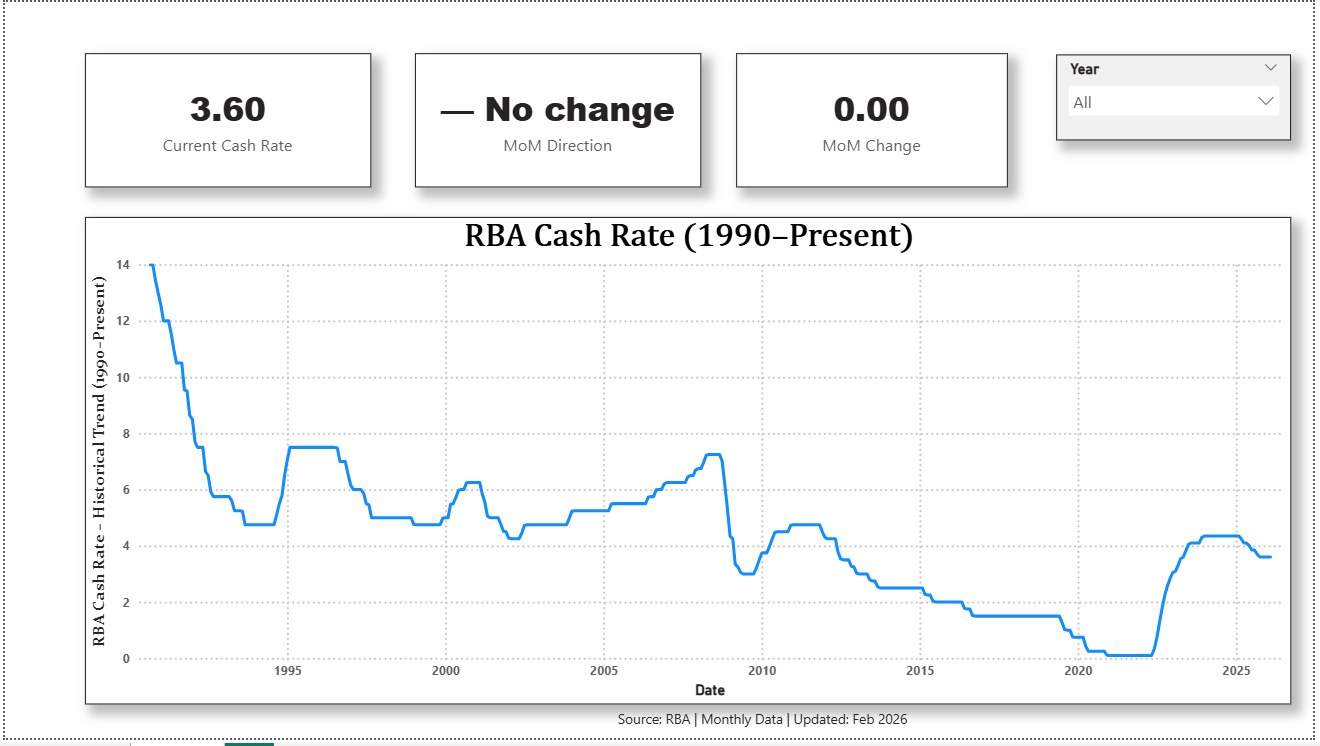

The page's visual inventory and layout, read from the dashboard file:
{"tool":"powerbi","page":{"name":"Page 1","canvas":[1280,720],"ordinal":0},"visuals":[{"type":"card","fields":{"Values":["Data.Current Cash Rate"]},"box":[78.3,50.1,280,130.8],"z":0},{"type":"card","fields":{"Values":["Data.MoM Change"]},"box":[715.4,50.1,265.4,130.8],"z":1000},{"type":"lineChart","title":"RBA Cash Rate (1990–Present)","fields":{"Y":["Data.RBA Cash Rate – Historical Trend (1990–Present)"],"Category":["Data.Date"]},"box":[78.3,210.3,1180,476.9],"z":2000},{"type":"card","fields":{"Values":["Data.MoM Direction"]},"box":[401.1,50.1,280,130.8],"z":3000},{"type":"textbox","box":[529.5,687.2,423.1,33],"z":4000},{"type":"slicer","fields":{"Values":["Data.Date.Variation.Date Hierarchy.Year"]},"box":[1028.4,51.4,229.9,84.4],"z":5000}]}

Visuals, with their boxes in screenshot pixels (x1, y1, x2, y2), scaled from the page's 1280x720 canvas onto the 1320x746 screenshot:
card - Data.Current Cash Rate: x1=81, y1=52, x2=369, y2=187
card - Data.MoM Change: x1=738, y1=52, x2=1011, y2=187
"RBA Cash Rate (1990–Present)" lineChart: x1=81, y1=218, x2=1298, y2=712
card - Data.MoM Direction: x1=414, y1=52, x2=702, y2=187
textbox: x1=546, y1=712, x2=982, y2=745
slicer - Data.Date.Variation.Date Hierarchy.Year: x1=1061, y1=53, x2=1298, y2=141
